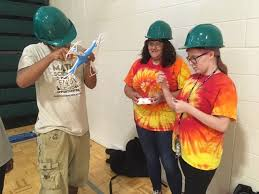Person_wearing_helmet: (175, 19, 225, 62)
